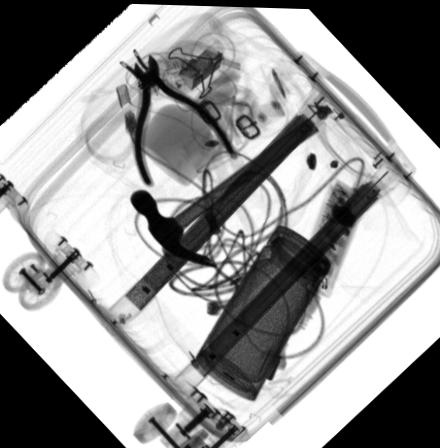Hammer: (128, 109, 319, 267)
Pliers: (131, 52, 238, 187)
